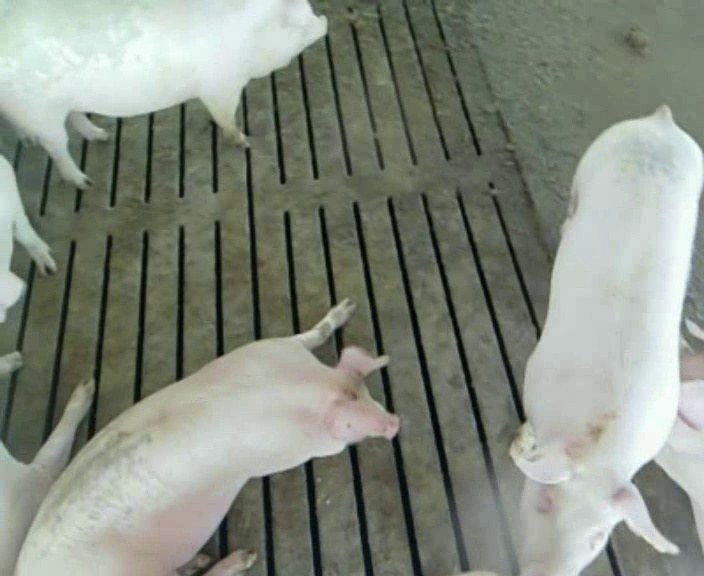pig: (511, 107, 702, 573), (0, 2, 326, 188)
